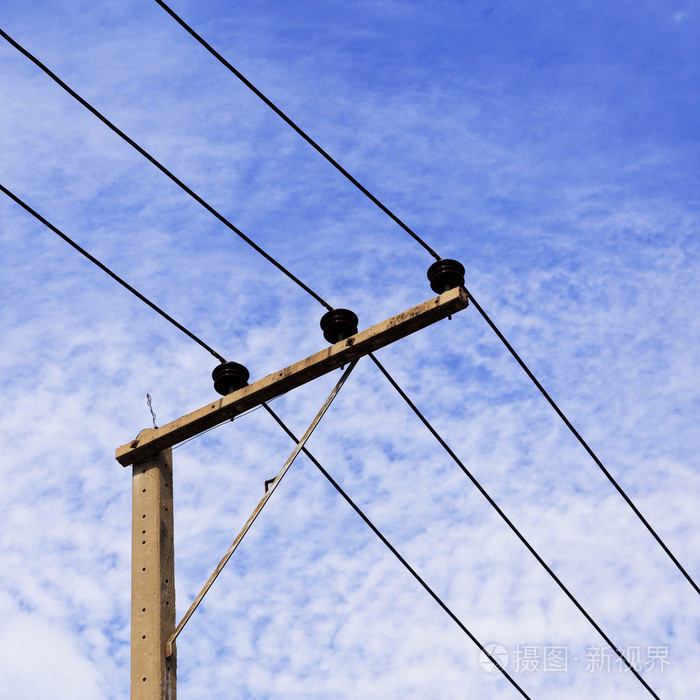insulator: (208, 359, 255, 393), (315, 308, 361, 339), (425, 260, 469, 289)
